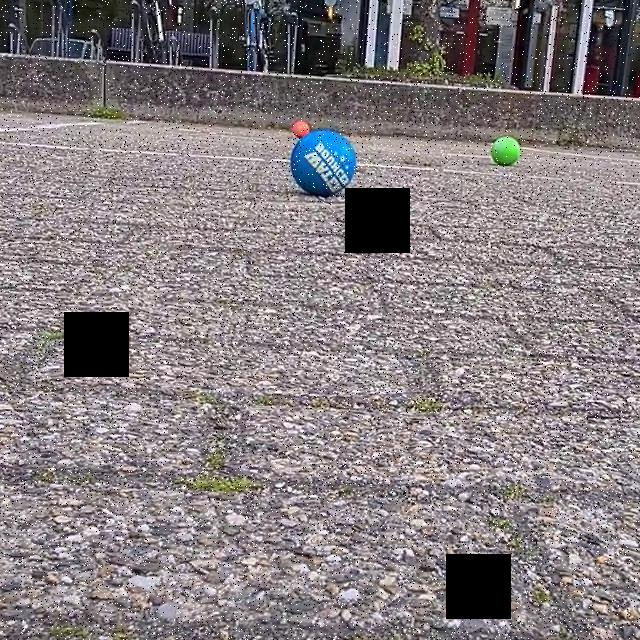ball: (490, 134, 521, 167), (292, 118, 314, 140)
